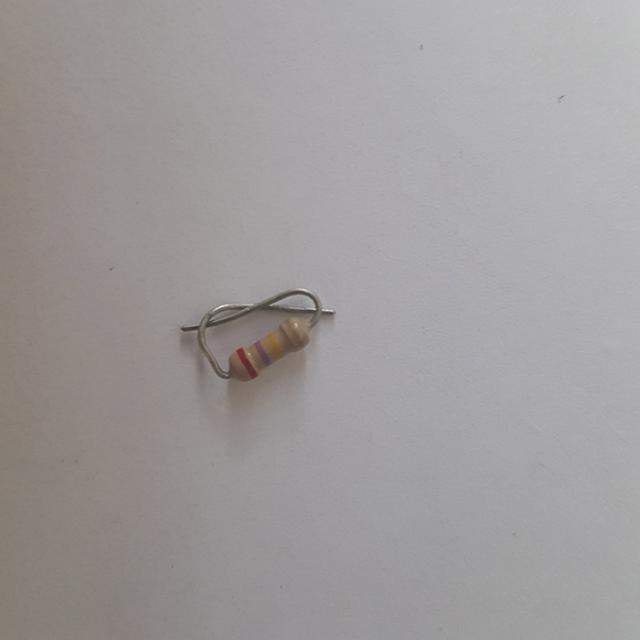gold: (282, 320, 302, 349)
red: (236, 347, 256, 377)
resistor: (213, 306, 337, 398)
violet: (254, 341, 270, 367)
yellow: (268, 332, 282, 356)
